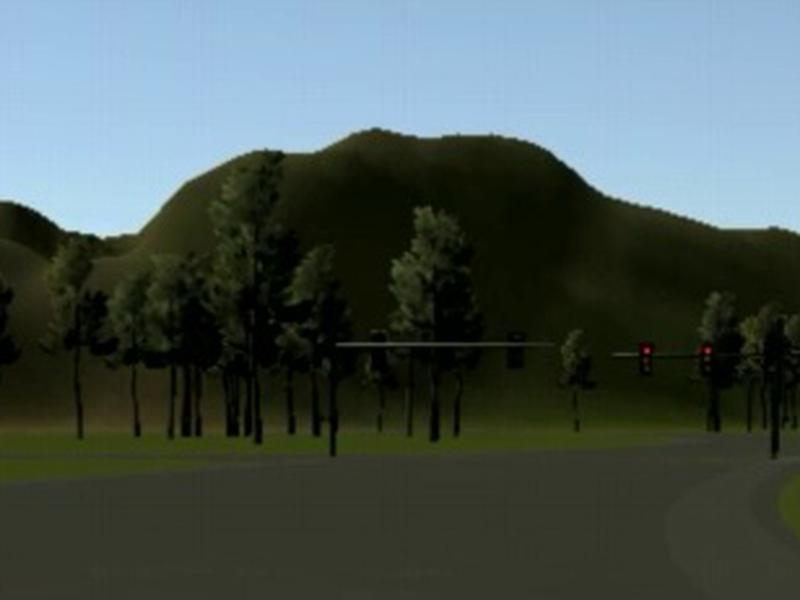Red: (640, 343, 653, 378), (702, 343, 714, 376)
